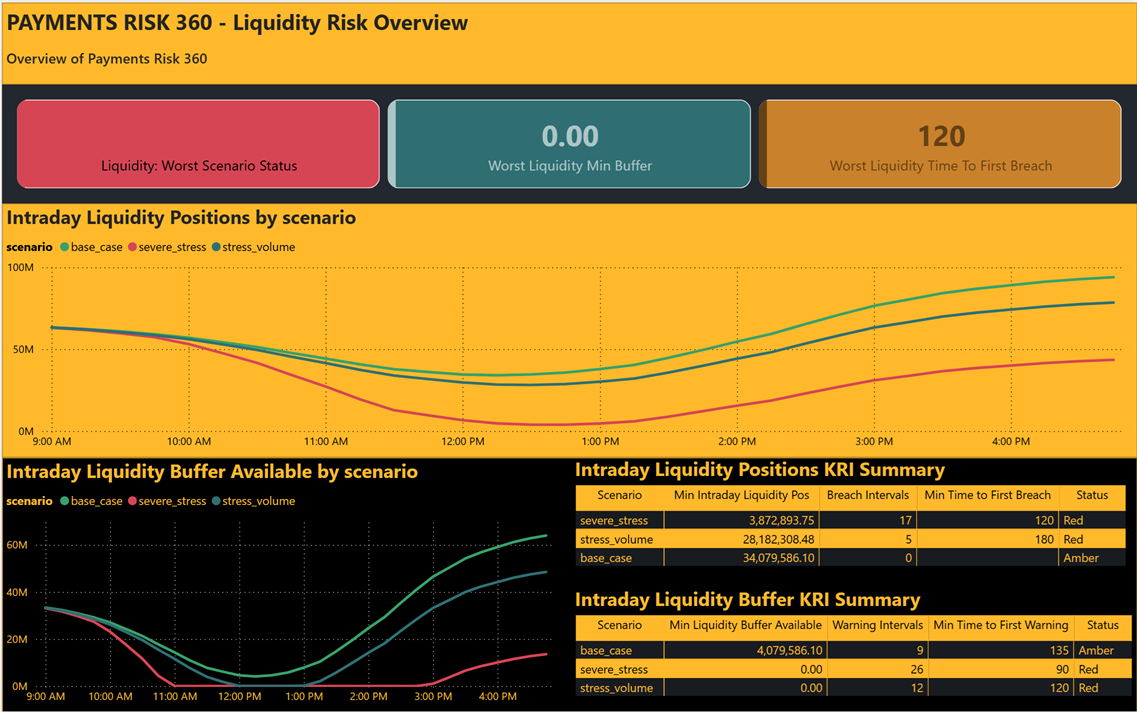

This screenshot's page, from the dashboard's own definition file:
{"tool":"powerbi","page":{"name":"Liquidity Risk","canvas":[1280,800],"ordinal":3},"visuals":[{"type":"shape","title":"Title_Shape","box":[0,0,1280,92.5],"z":0,"group":"g3"},{"type":"shape","title":"Middle_Row_Shape","box":[0,226.7,1280,286.4],"z":0,"group":"g2"},{"type":"group","id":"g1","title":"Bottom_Group","box":[0,511,1281.1,289.8],"z":0},{"type":"shape","title":"Bottom_Row_Shape","box":[0,513.1,1280,287.6],"z":0,"group":"g1"},{"type":"tableEx","title":"Intraday Liquidity Buffer KRI Summary","fields":{"Values":["intraday_liquidity_kri_summary.scenario","intraday_liquidity_kri_summary.min_buffer_available","intraday_liquidity_kri_summary.warning_intervals","intraday_liquidity_kri_summary.time_to_first_warning_min","intraday_liquidity_kri_summary.status"]},"box":[640.6,657.6,640.6,143.2],"z":125,"group":"g1"},{"type":"tableEx","title":"Intraday Liquidity Positions KRI Summary","fields":{"Values":["intraday_liquidity_kri_summary.scenario","intraday_liquidity_kri_summary.min_intraday_position","intraday_liquidity_kri_summary.breach_intervals","intraday_liquidity_kri_summary.time_to_first_breach_min","intraday_liquidity_kri_summary.status"]},"box":[640.6,511,639.4,146.6],"z":250,"group":"g1"},{"type":"group","id":"g2","title":"Middle_Row_Group","box":[0,226.7,1280,286.4],"z":500},{"type":"lineChart","title":"Intraday Liquidity Positions by scenario","fields":{"Y":["Sum(intraday_liquidity_positions.intraday_position)"],"Series":["intraday_liquidity_positions.scenario"],"Category":["intraday_liquidity_positions.timestamp"]},"box":[0,226.7,1280,286.4],"z":500,"group":"g2"},{"type":"lineChart","title":"Intraday Liquidity Buffer Available by scenario","fields":{"Category":["intraday_liquidity_positions.timestamp"],"Y":["Sum(intraday_liquidity_positions.buffer_available)"],"Series":["intraday_liquidity_positions.scenario"]},"box":[0,513.1,640.6,287.6],"z":500,"group":"g1"},{"type":"textbox","title":"Subtitle_ Textbox","box":[0,46.2,640.6,46.2],"z":1000,"group":"g3"},{"type":"cardVisual","title":"KPI_Card","fields":{"Data":["all_measures.Worst Scenario Severity","all_measures.Worst_Liquidity_Min_Buffer","all_measures.Worst_Liquidity_Time_To_First_Breach"]},"box":[0,92.5,1280,134.2],"z":1000},{"type":"group","id":"g3","title":"Title_Group","box":[0,0,1280,92.5],"z":2000},{"type":"textbox","title":"Title_ Textbox","box":[0,0,640.6,46.2],"z":2000,"group":"g3"}]}

Visuals, with their boxes in screenshot pixels (x1, y1, x2, y2), scaled from the page's 1280x800 canvas onto the 1137x712 screenshot:
"Title_Shape" shape: (0,0,1136,82)
"Middle_Row_Shape" shape: (0,202,1136,457)
"Bottom_Group" group: (0,455,1136,711)
"Bottom_Row_Shape" shape: (0,457,1136,711)
"Intraday Liquidity Buffer KRI Summary" tableEx: (569,585,1136,711)
"Intraday Liquidity Positions KRI Summary" tableEx: (569,455,1136,585)
"Middle_Row_Group" group: (0,202,1136,457)
"Intraday Liquidity Positions by scenario" lineChart: (0,202,1136,457)
"Intraday Liquidity Buffer Available by scenario" lineChart: (0,457,569,711)
"Subtitle_ Textbox" textbox: (0,41,569,82)
"KPI_Card" cardVisual: (0,82,1136,202)
"Title_Group" group: (0,0,1136,82)
"Title_ Textbox" textbox: (0,0,569,41)
